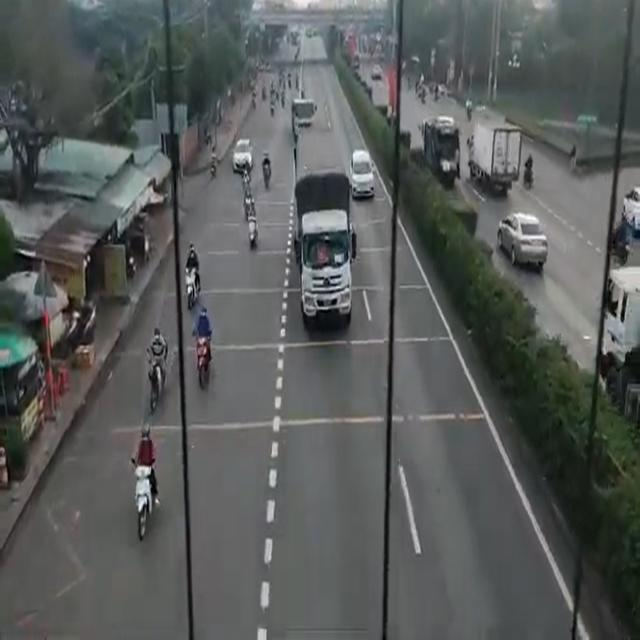car: (496, 212, 550, 265), (352, 153, 372, 196), (232, 137, 252, 171)
motorbike: (129, 421, 158, 543), (193, 299, 209, 401), (147, 323, 163, 407), (182, 243, 200, 300), (247, 196, 259, 245)
truck: (298, 133, 351, 330), (474, 117, 516, 182), (422, 116, 462, 180)
